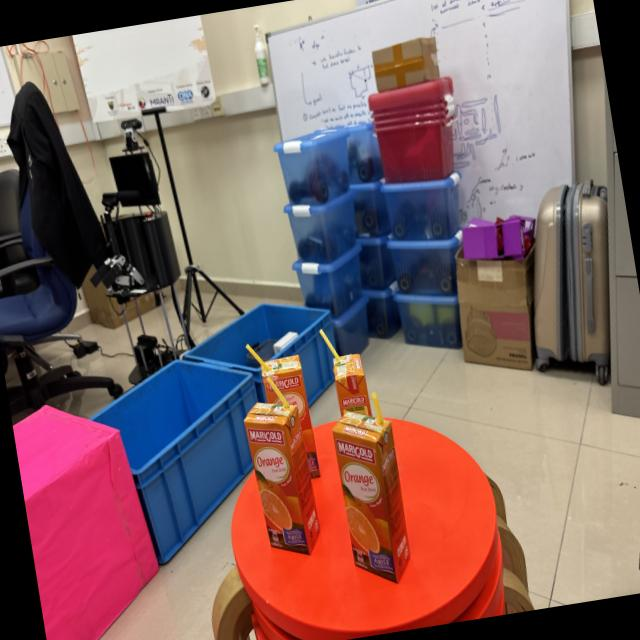drink_carton: (321, 381, 423, 596), (236, 368, 332, 566), (240, 325, 326, 496), (316, 315, 379, 432)
